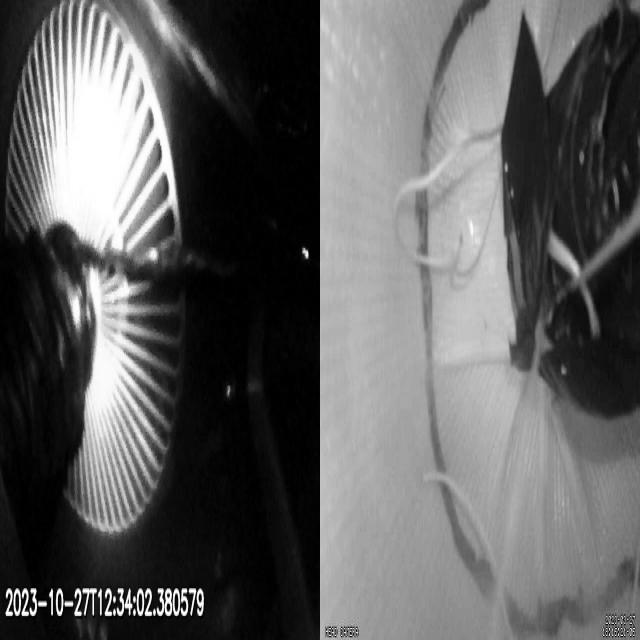red-circle: (416, 1, 640, 635)
